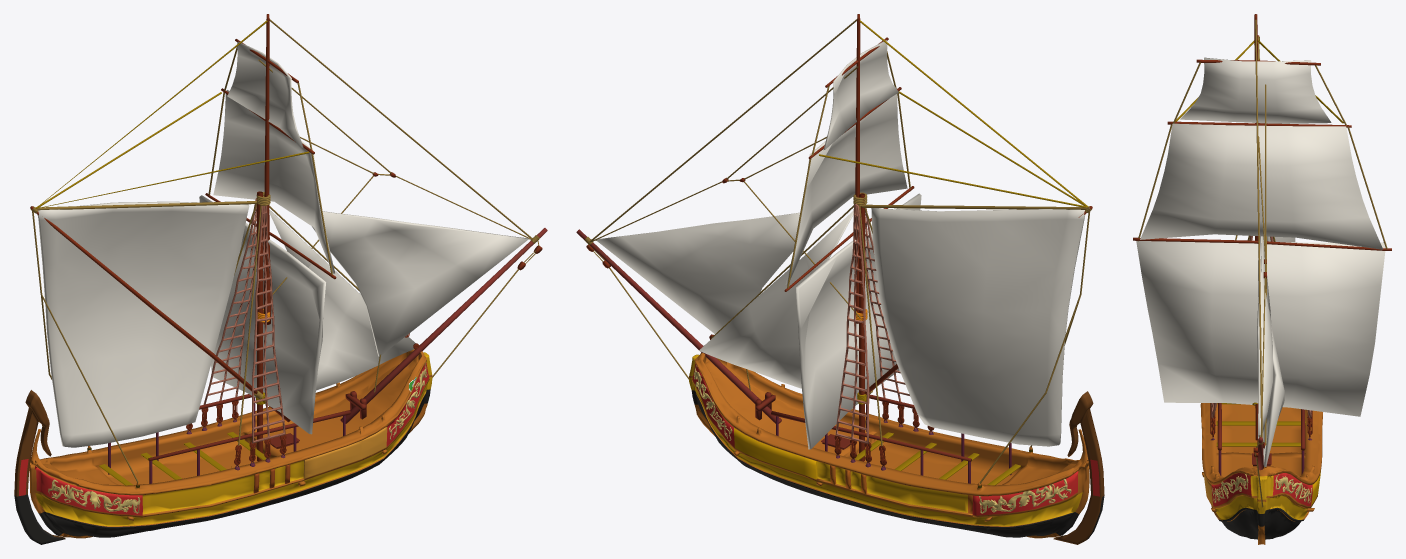
Rendered from barco-ottoman.glb.
3 views of the same model, side by side, from view 1: azimuth 30°, elevation 25°; view 2: azimuth 150°, elevation 25°; view 3: azimuth 270°, elevation 25° (orthographic).
Visible parts, largest first — view 1: Cylinder.004_Sail_0, Cube_Wood_0, Cube.004_Rope.001_0, Cylinder.001_Deadeye_0, Cube.002_Deadeye_0, Cylinder.003_Wood_0, Plane.010_Material_0, Cube.024_Rope.003_0, Cube.026_Rope.003_0; view 2: Cylinder.004_Sail_0, Cube_Wood_0, Cube.004_Rope.001_0, Cube.002_Deadeye_0, Cylinder.001_Deadeye_0, Cube.024_Rope.003_0, Plane.010_Material_0, Cylinder.003_Wood_0, Cube.026_Rope.003_0, Torus.009_Rope.001_0; view 3: Cylinder.004_Sail_0, Cube_Wood_0, Cube.004_Rope.001_0, Cylinder.001_Deadeye_0, Plane.010_Material_0, Cube.026_Rope.003_0, Cylinder.003_Wood_0, Cube.002_Deadeye_0.
Part boxes in pixels (x1,y1,x2,y2): Cylinder.004_Sail_0: (37,41,528,447); Cube_Wood_0: (14,198,547,544); Cube.004_Rope.001_0: (32,19,531,482); Cylinder.001_Deadeye_0: (30,14,336,422); Cube.002_Deadeye_0: (186,172,542,465); Cylinder.003_Wood_0: (108,394,350,483); Plane.010_Material_0: (48,363,427,513); Cube.024_Rope.003_0: (35,20,309,208); Cube.026_Rope.003_0: (99,392,266,485); Cylinder.004_Sail_0: (596,40,1084,449); Cube_Wood_0: (576,204,1104,544); Cube.004_Rope.001_0: (589,19,1090,447); Cube.002_Deadeye_0: (586,177,934,466); Cylinder.001_Deadeye_0: (784,14,1092,394); Cube.024_Rope.003_0: (819,20,1088,207); Plane.010_Material_0: (694,365,1071,513); Cylinder.003_Wood_0: (771,394,1011,483); Cube.026_Rope.003_0: (854,392,1020,485); Torus.009_Rope.001_0: (584,179,1091,483); Cylinder.004_Sail_0: (1136,57,1386,466); Cube_Wood_0: (1200,235,1322,544); Cube.004_Rope.001_0: (1138,19,1387,507); Cylinder.001_Deadeye_0: (1133,14,1391,440); Plane.010_Material_0: (1212,474,1312,503); Cube.026_Rope.003_0: (1216,402,1305,446); Cylinder.003_Wood_0: (1217,403,1305,475); Cube.002_Deadeye_0: (1210,259,1312,457).
Bounding box in the file's own units: 8.76 × 7.65 × 3.67.
Materials: 9 (3 with a texture image).
